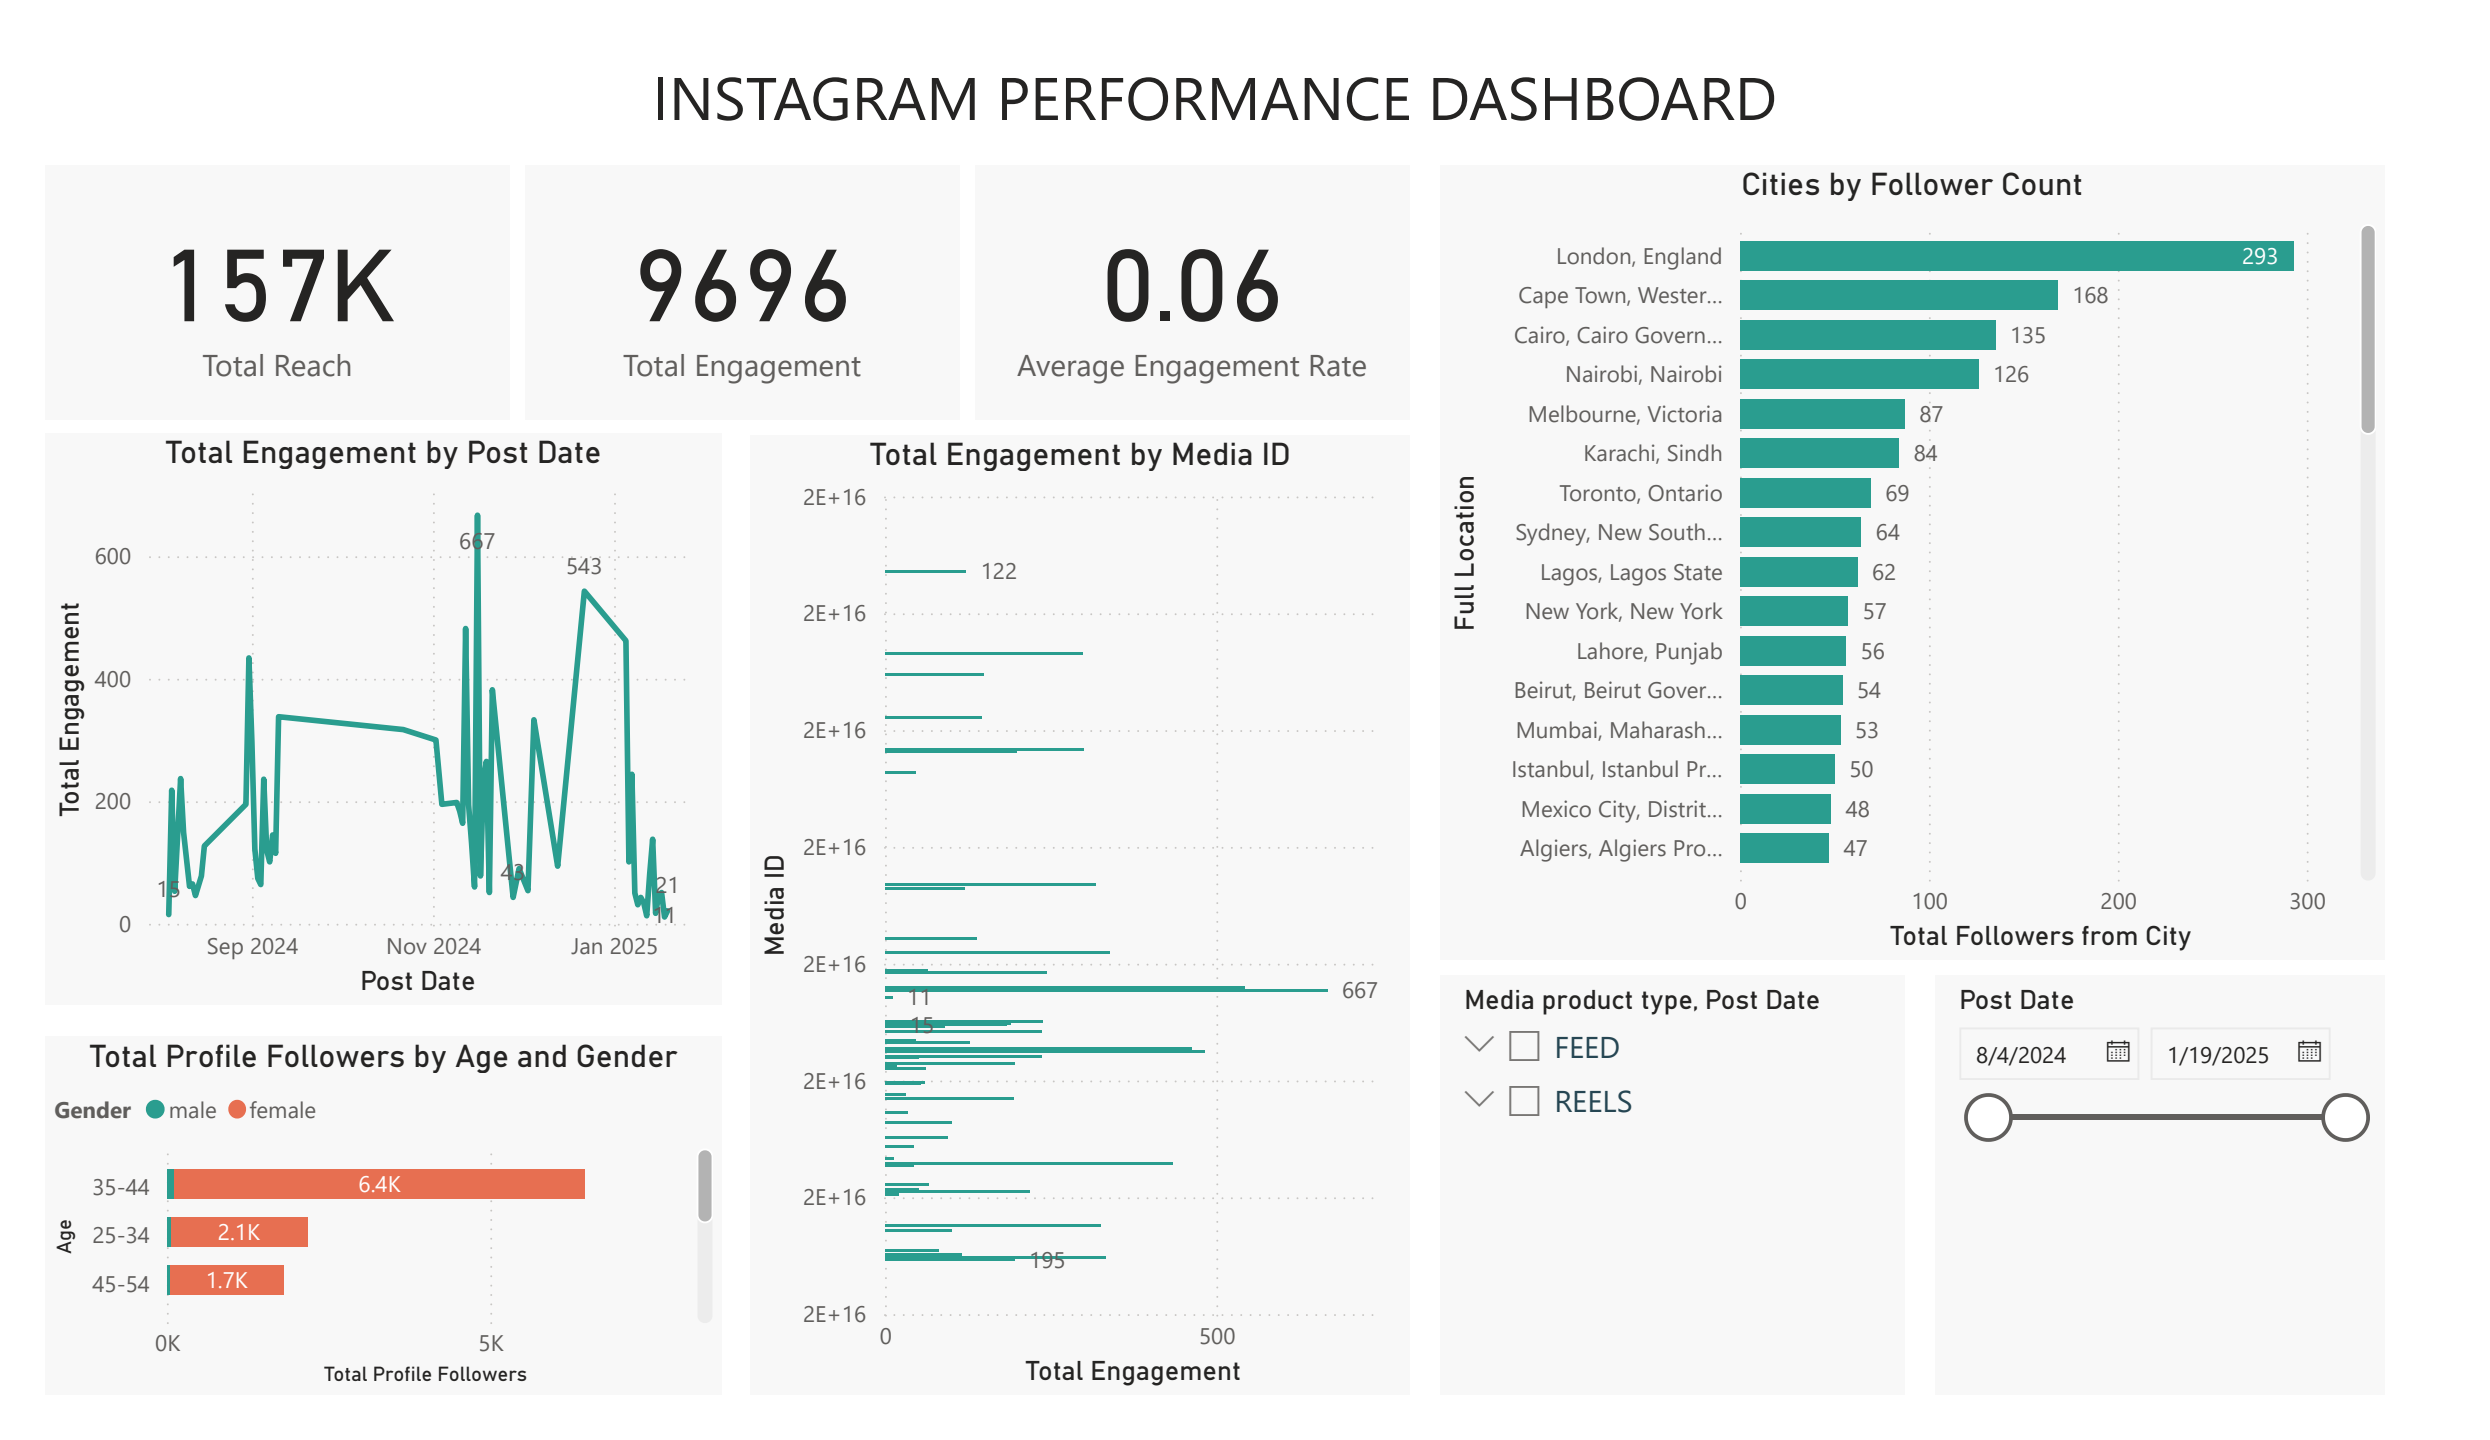

This screenshot's page, from the dashboard's own definition file:
{"tool":"powerbi","page":{"name":"Page 1","canvas":[1280,720],"ordinal":0},"visuals":[{"type":"card","fields":{"Values":["Sum(PostMetrics.Reach)"]},"box":[0,64,248,136],"z":0},{"type":"card","fields":{"Values":["Sum(PostMetrics.Engagement)"]},"box":[256,64,232,136],"z":1000},{"type":"card","fields":{"Values":["Avg(PostMetrics.Engagement Rate)"]},"box":[496,64,232,136],"z":2000},{"type":"lineChart","fields":{"Category":["PostMetrics.Post Date"],"Y":["Sum(PostMetrics.Engagement)"]},"box":[0,207,361,305],"z":3000},{"type":"clusteredBarChart","title":"Total Engagement by Media ID","fields":{"Category":["PostMetrics.Media ID"],"Y":["Sum(PostMetrics.Engagement)"]},"box":[376,208,352,512],"z":4000},{"type":"slicer","fields":{"Values":["PostMetrics.Media product type","PostMetrics.Post Date"]},"box":[744,496,248,224],"z":5000},{"type":"barChart","title":"Total Profile Followers by Age and Gender","fields":{"Series":["AgeGenderBreakdown.Gender"],"Category":["AgeGenderBreakdown.Age"],"Y":["Sum(AgeGenderBreakdown.Profile followers)"]},"box":[0,529,361,191],"z":6000},{"type":"clusteredBarChart","title":"Cities by Follower Count","fields":{"Category":["CityFollowerBreakdown.Full location"],"Y":["Sum(CityFollowerBreakdown.Followers from City)"]},"box":[744,64,504,424],"z":7000},{"type":"slicer","fields":{"Values":["PostMetrics.Post Date"]},"box":[1008,496,240,224],"z":8000},{"type":"textbox","box":[0,0,1248,64],"z":9000}]}

Visuals, with their boxes in screenshot pixels (x1, y1, x2, y2), scaled from the page's 1280x720 canvas onto the 2490x1440 screenshot:
card - Sum(PostMetrics.Reach): box(0, 128, 482, 400)
card - Sum(PostMetrics.Engagement): box(498, 128, 949, 400)
card - Avg(PostMetrics.Engagement Rate): box(965, 128, 1416, 400)
lineChart - PostMetrics.Post Date x Sum(PostMetrics.Engagement): box(0, 414, 702, 1024)
"Total Engagement by Media ID" clusteredBarChart: box(731, 416, 1416, 1439)
slicer - PostMetrics.Media product type x PostMetrics.Post Date: box(1447, 992, 1930, 1439)
"Total Profile Followers by Age and Gender" barChart: box(0, 1058, 702, 1439)
"Cities by Follower Count" clusteredBarChart: box(1447, 128, 2428, 976)
slicer - PostMetrics.Post Date: box(1961, 992, 2428, 1439)
textbox: box(0, 0, 2428, 128)
